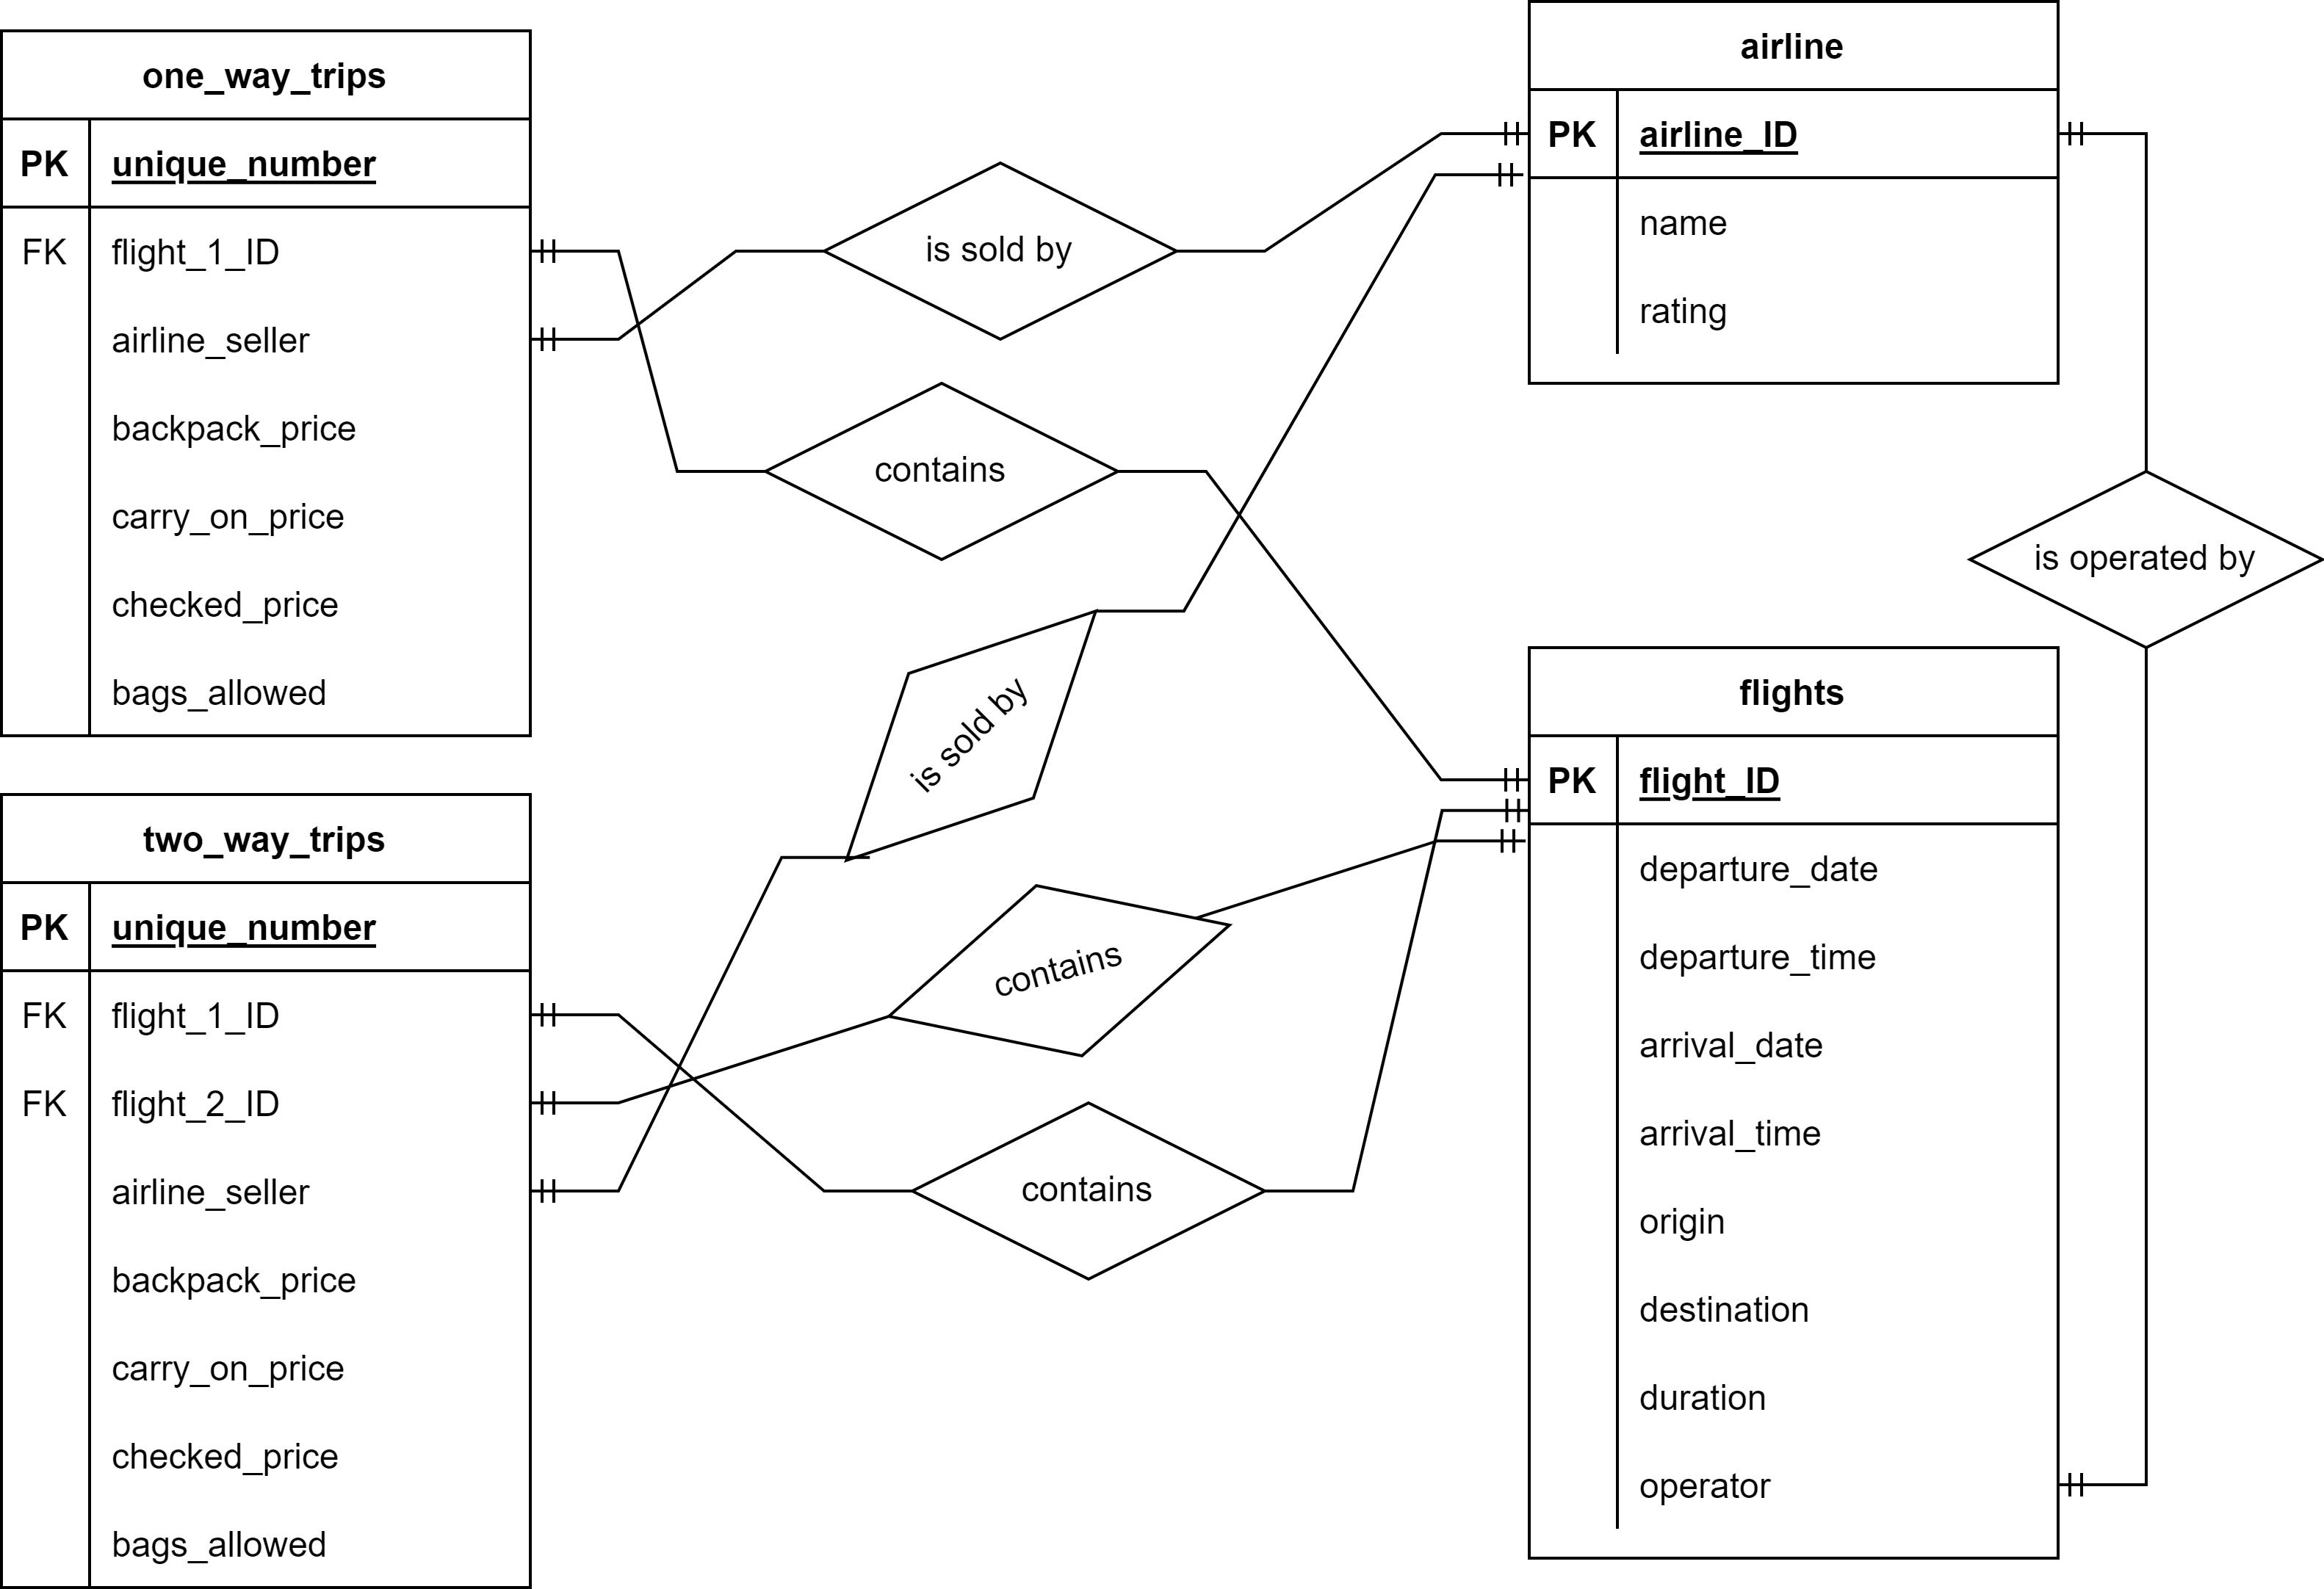entity: (1524, 644, 2059, 1568), (0, 787, 533, 1589), (0, 30, 533, 745), (1524, 0, 2061, 390)
relationship: (842, 600, 1095, 863), (1969, 466, 2324, 650), (768, 380, 1118, 565), (918, 1100, 1270, 1280), (830, 166, 1178, 339), (892, 877, 1227, 1056)
